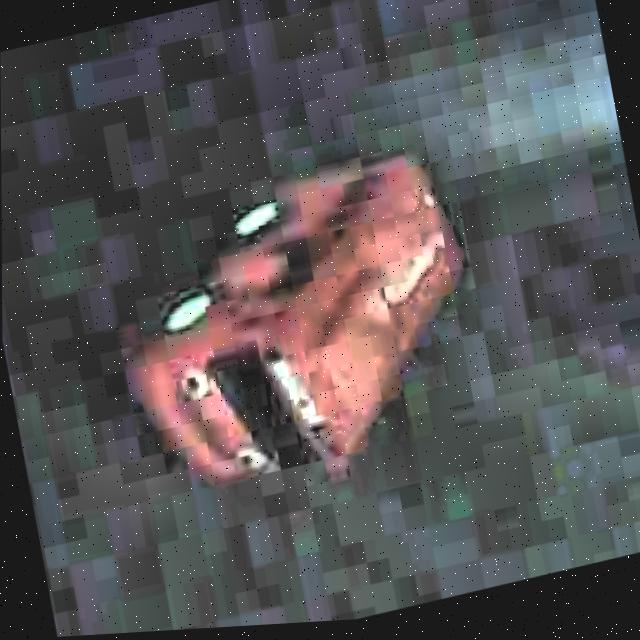bus: (79, 114, 515, 541)
